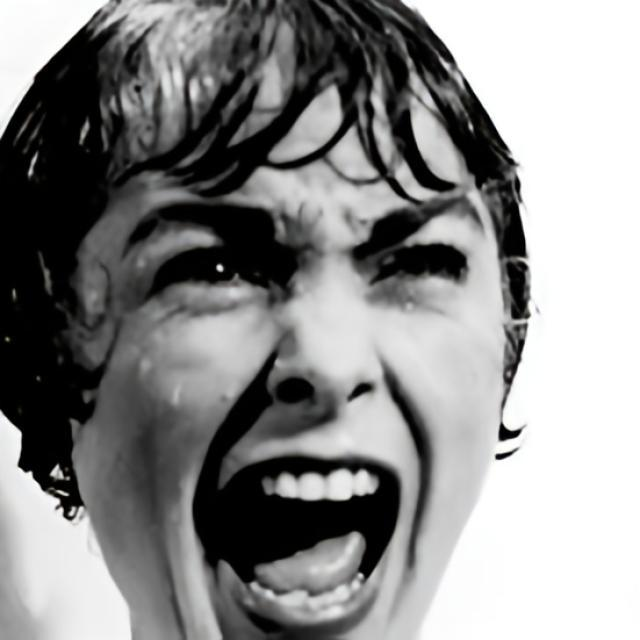fear: (66, 6, 505, 640)
